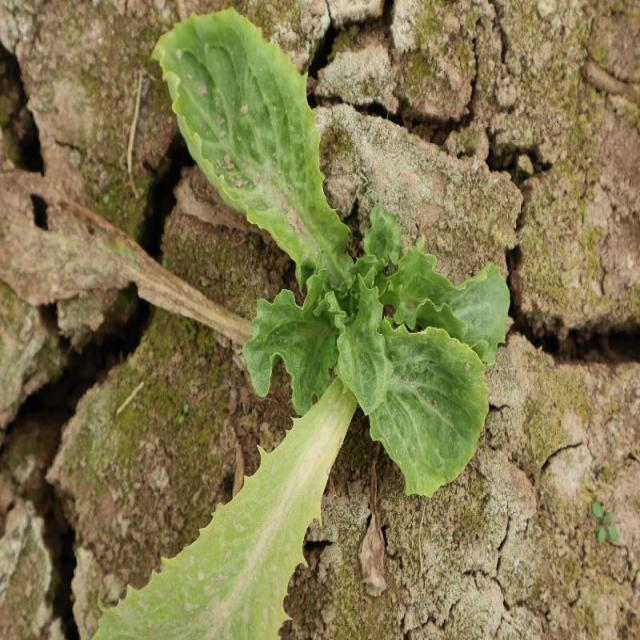crop: (154, 10, 507, 492)
